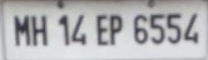character: (13, 14, 30, 47), (30, 14, 47, 46), (183, 12, 199, 43), (149, 13, 164, 44), (71, 14, 86, 44), (108, 14, 122, 45), (166, 12, 180, 43), (57, 13, 70, 46), (133, 13, 147, 43), (97, 14, 110, 46)
